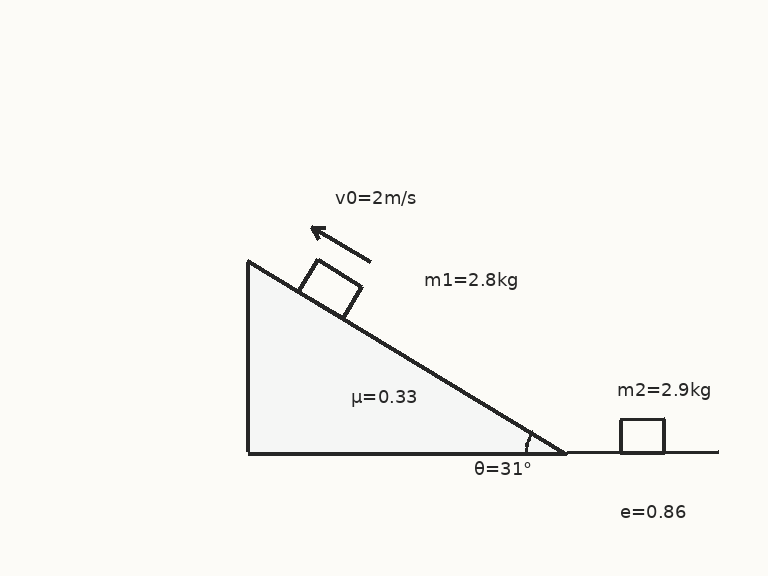block: (297, 257, 364, 320), (618, 418, 666, 454)
ramp: (245, 258, 568, 454)
